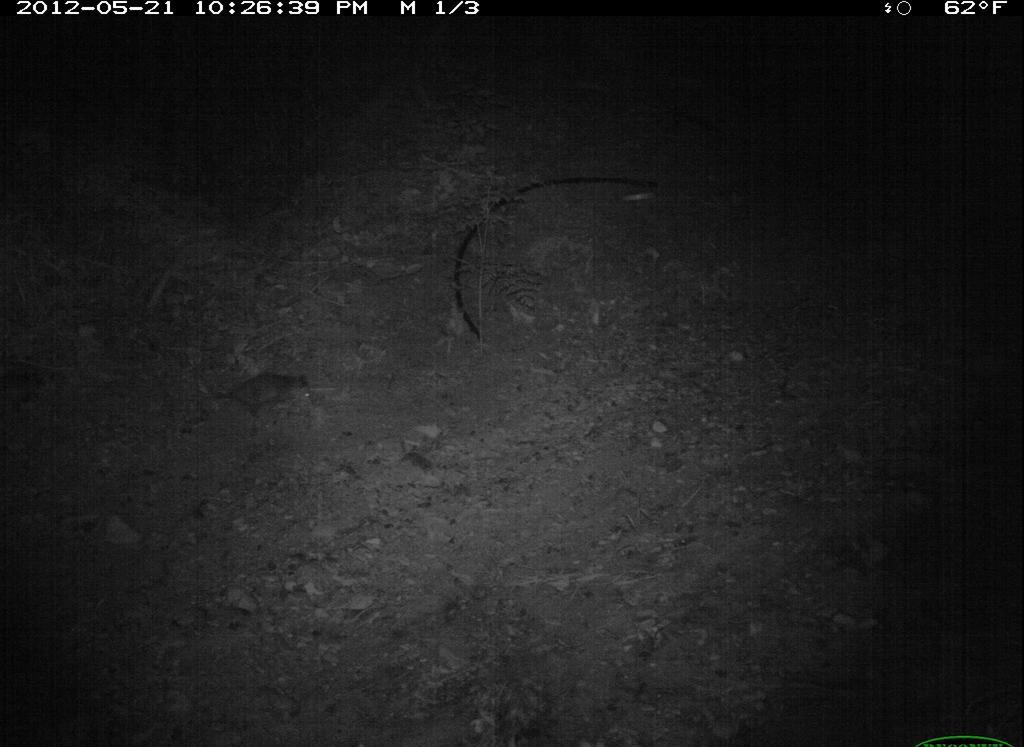opossum: (209, 351, 341, 433)
